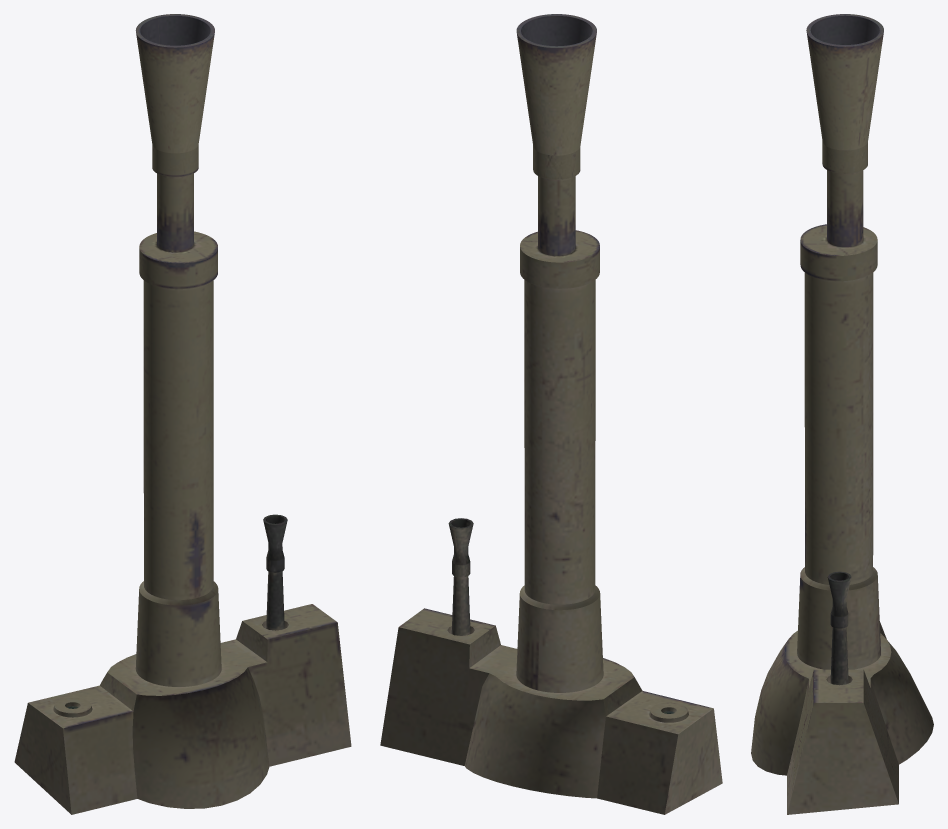
Rendered from Gun_04.glb.
3 views of the same model, side by side, from view 1: azimuth 30°, elevation 25°; view 2: azimuth 150°, elevation 25°; view 3: azimuth 270°, elevation 25° (orthographic). The views are drawn at different scales.
Visible parts, largest first — view 1: set_0_group_0; view 2: set_0_group_0; view 3: set_0_group_0.
Part boxes in pixels (x1,y1,x2,y2): set_0_group_0: (14,14,351,814); set_0_group_0: (380,14,722,814); set_0_group_0: (751,14,933,814).
Size of the model in its own units: 0.6387 by 1.61 by 0.3693.
Materials: 1 (1 with a texture image).
